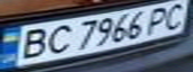6: (124, 8, 151, 39), (112, 11, 136, 43)
7: (72, 18, 100, 52)
9: (93, 16, 118, 47)
B: (9, 26, 54, 61)
C: (39, 22, 75, 56), (157, 1, 193, 30)
P: (142, 3, 175, 35)
